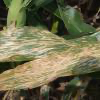Corn leaf blight: (0, 41, 99, 91), (1, 29, 99, 62)
